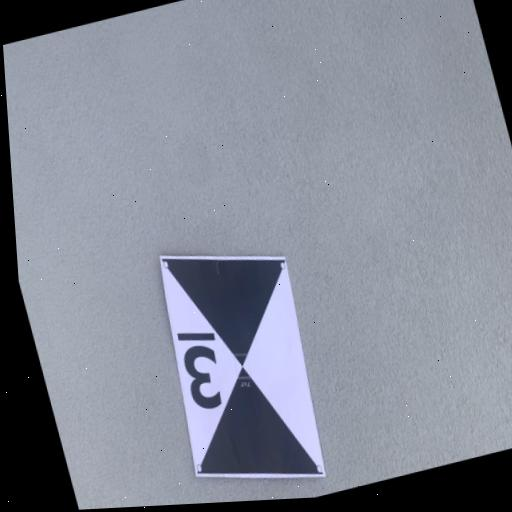target3: (158, 252, 328, 481)
